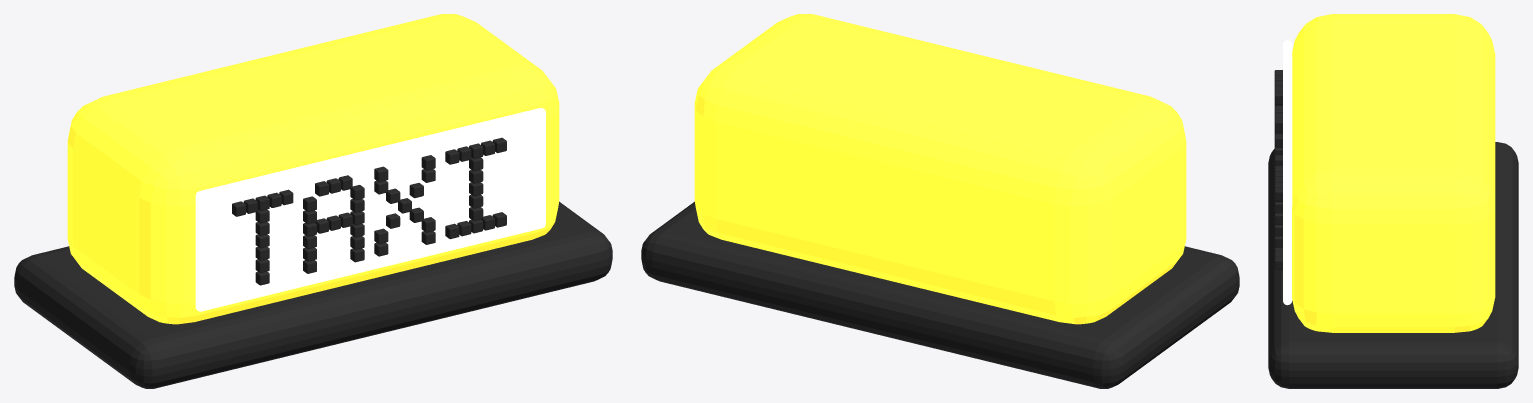
Rendered from roof_taxi.glb.
3 views of the same model, side by side, from view 1: azimuth 30°, elevation 25°; view 2: azimuth 150°, elevation 25°; view 3: azimuth 270°, elevation 25° (orthographic). The views are drawn at different scales.
Visible parts, largest first — view 1: Taxi Lamp Housing, Taxi Mounting Base, Taxi Front Face; view 2: Taxi Lamp Housing, Taxi Mounting Base; view 3: Taxi Lamp Housing, Taxi Mounting Base, Taxi Front Face.
Part boxes in pixels (x1=…): Taxi Lamp Housing: x1=67, y1=14, x2=559, y2=324; Taxi Mounting Base: x1=14, y1=201, x2=612, y2=388; Taxi Front Face: x1=195, y1=108, x2=545, y2=311; Taxi Lamp Housing: x1=694, y1=14, x2=1186, y2=324; Taxi Mounting Base: x1=641, y1=201, x2=1239, y2=388; Taxi Lamp Housing: x1=1292, y1=14, x2=1495, y2=332; Taxi Mounting Base: x1=1268, y1=142, x2=1518, y2=388; Taxi Front Face: x1=1283, y1=40, x2=1292, y2=305.
Bounding box in the file's own units: 4.4 × 1.83 × 2.15.
